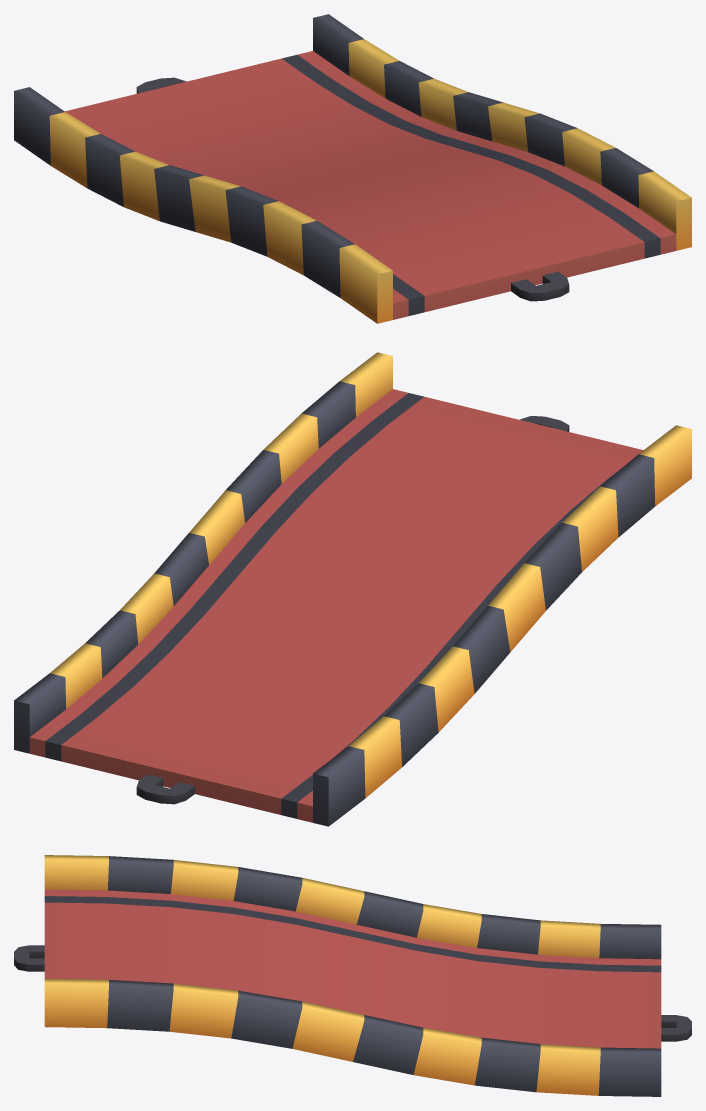
Rendered from track-road-wide-straight-hill-complete-half.fbx.
The picture shows the model from 3 angles, top to bottom: view 1: azimuth 30°, elevation 25°; view 2: azimuth 150°, elevation 25°; view 3: azimuth 270°, elevation 25°; orthographic projection. The views are drawn at different scales.
Visible parts, largest first — view 1: track-road-wide-straight-hill-complete-half; view 2: track-road-wide-straight-hill-complete-half; view 3: track-road-wide-straight-hill-complete-half.
Boxes of the visible parts, x1=… form: track-road-wide-straight-hill-complete-half: x1=14, y1=14, x2=691, y2=323; track-road-wide-straight-hill-complete-half: x1=14, y1=352, x2=691, y2=826; track-road-wide-straight-hill-complete-half: x1=14, y1=855, x2=691, y2=1096.
Size of the model in its own units: 200 by 80 by 440.
